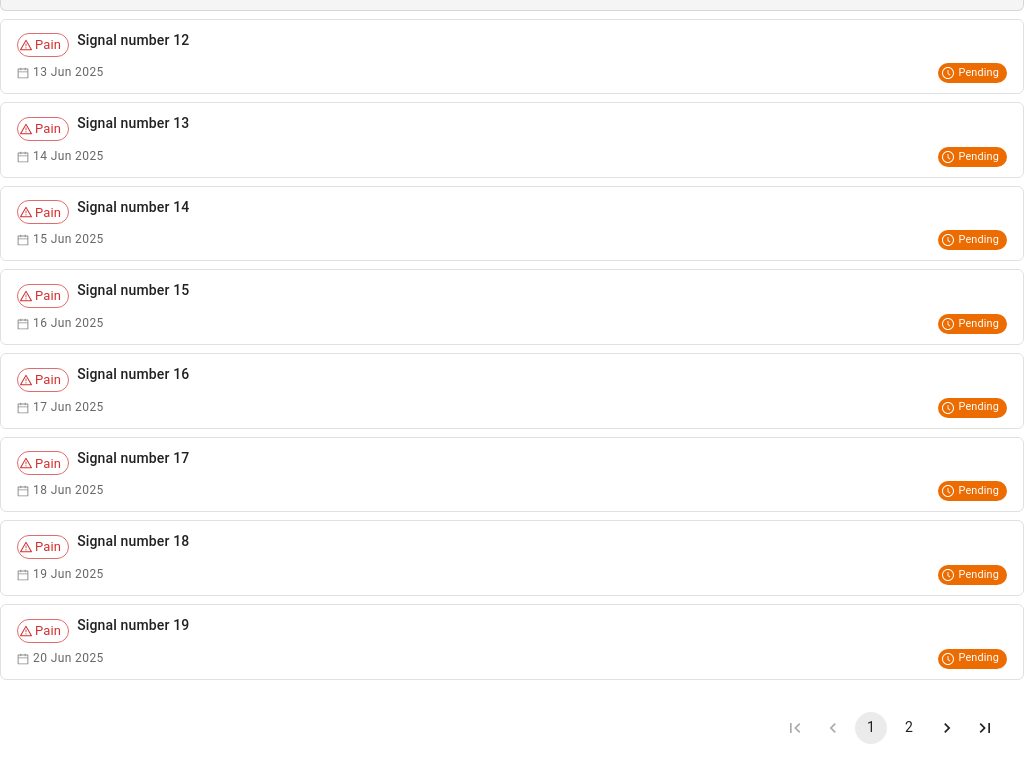
Scenario: SignalsFlatView › paginates at 20 per page — only 20 render, next page advances
The image size is (1024, 768).
(page scrolled)
Note: advance to page 2 → the remaining 5
Click the button named "go to page 2" at (909, 728), box [893,712,925,744]
(page scrolled)
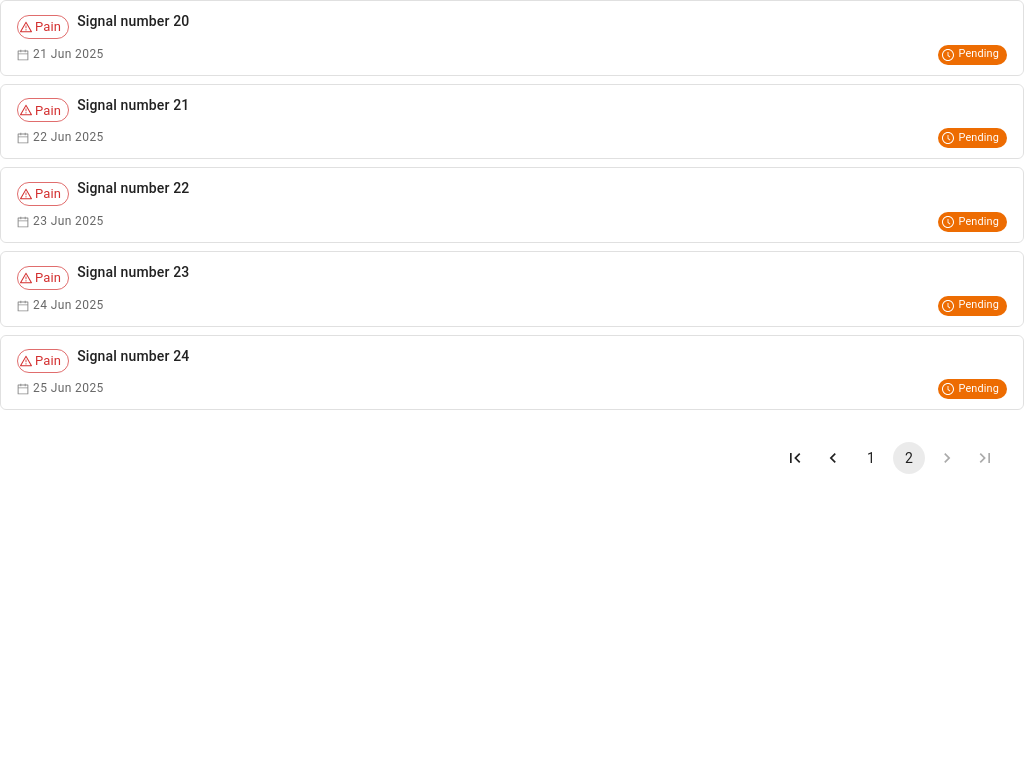
Check: the number of buttons with test id "signal-line" is 5, box [0,0,1023,76]; [0,84,1023,159]; [0,167,1023,243]; [0,251,1023,326]; [0,334,1023,410]
